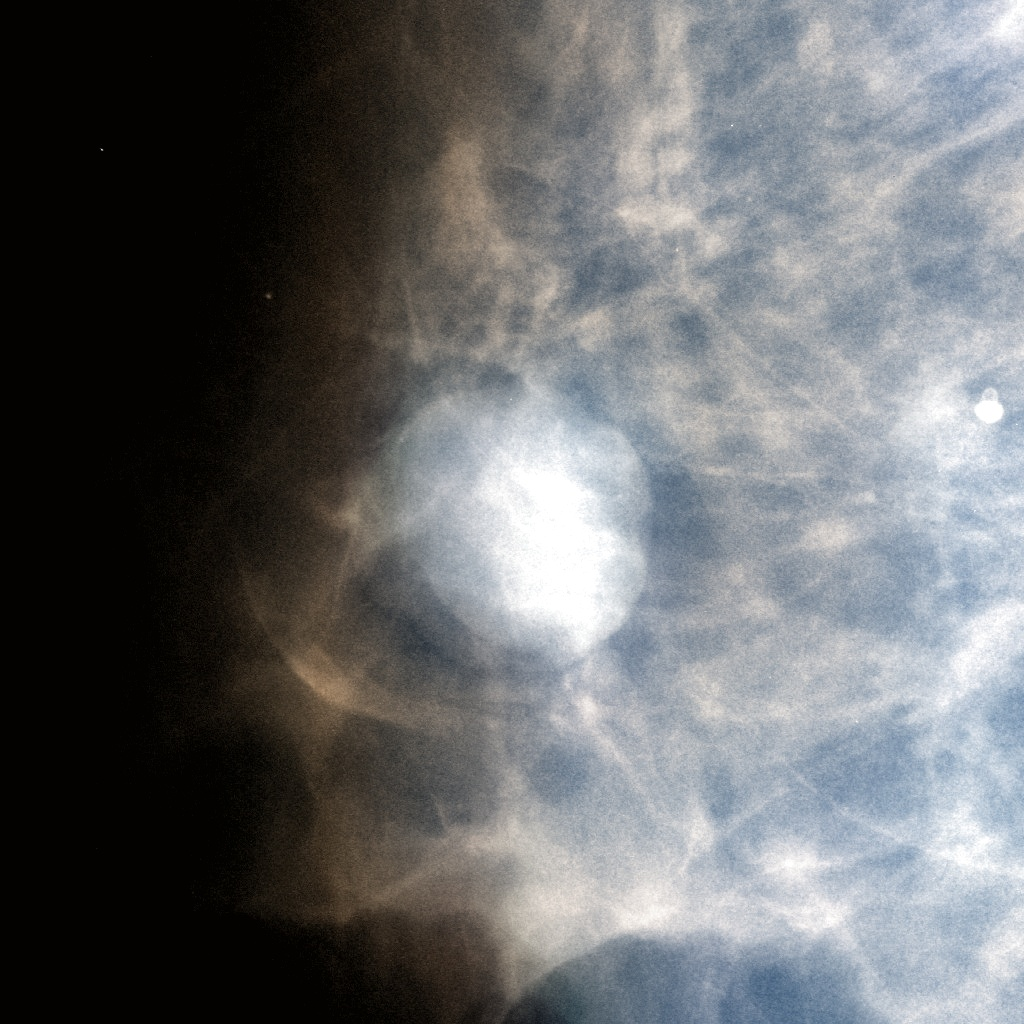tumor: (371, 373, 653, 651)
